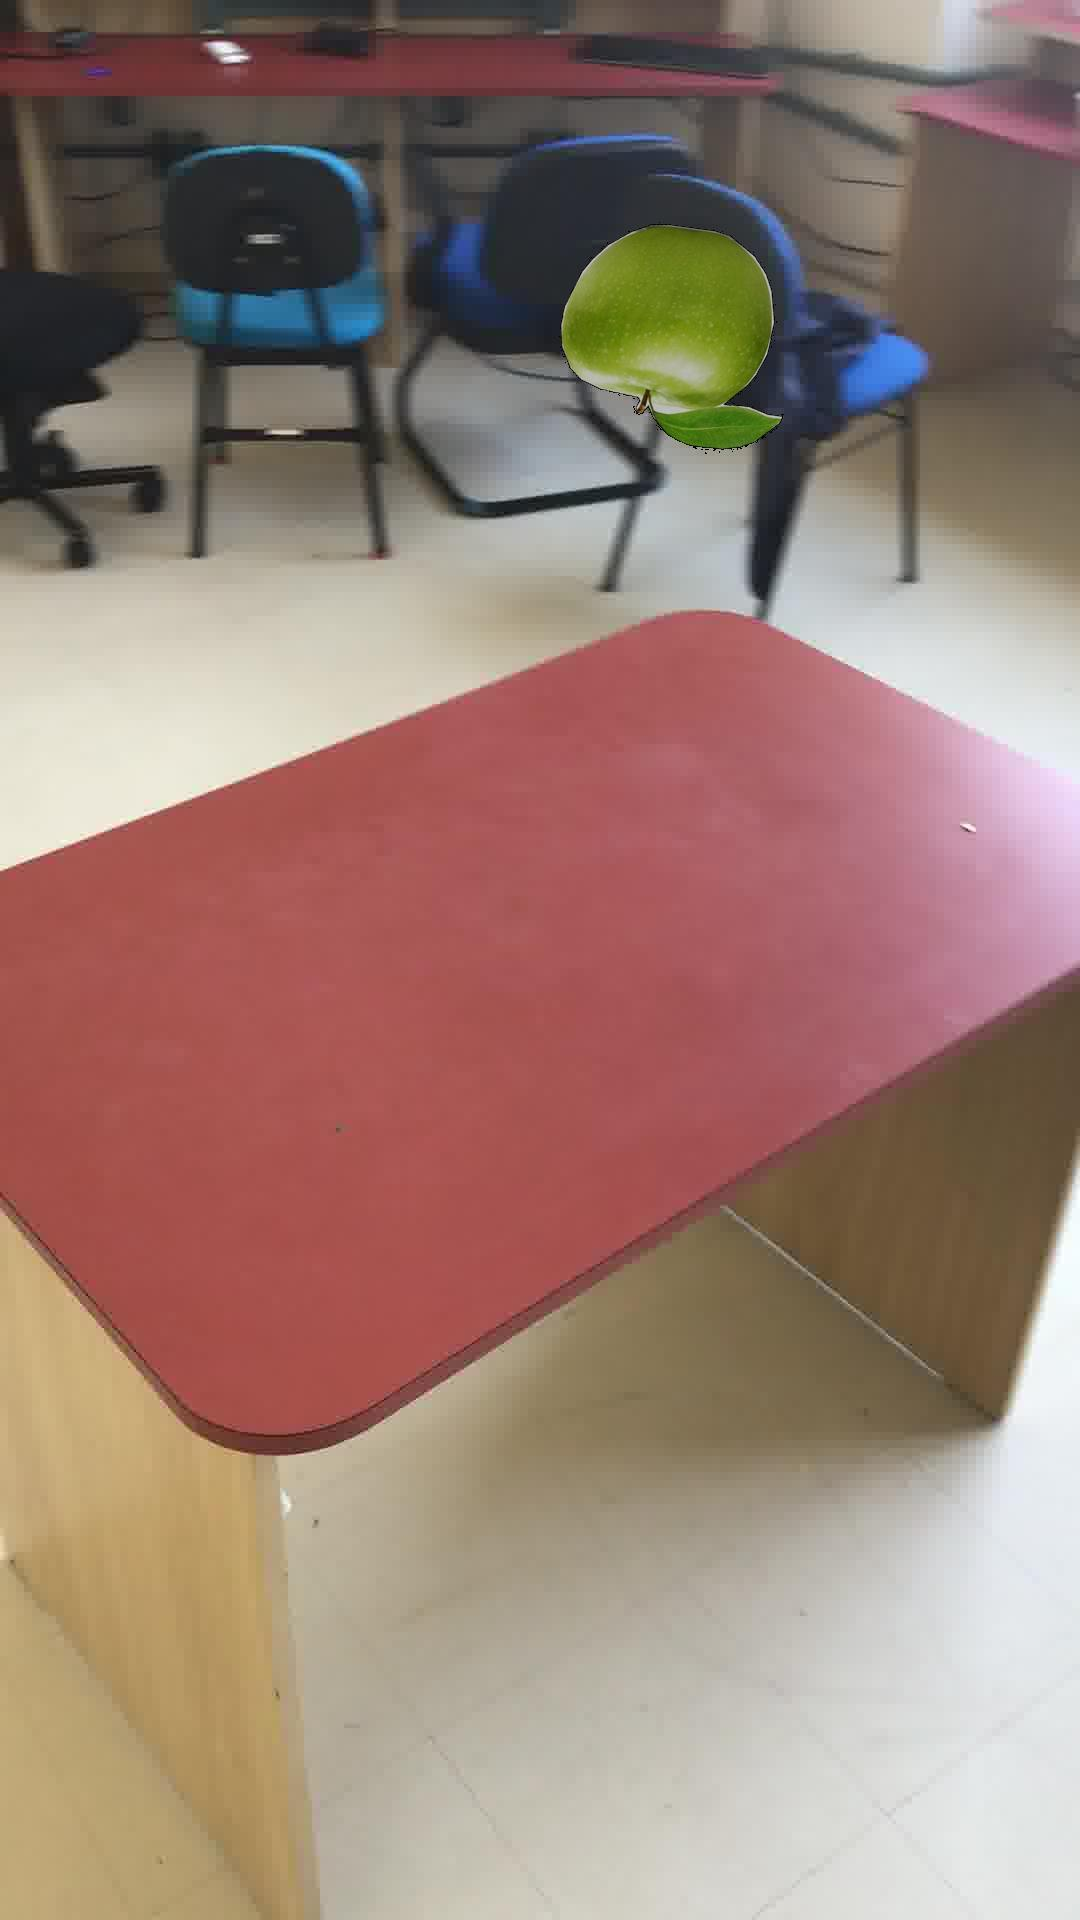green apple: (559, 223, 782, 450)
